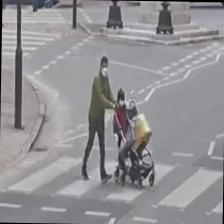person: (80, 56, 116, 182), (111, 86, 126, 174)
